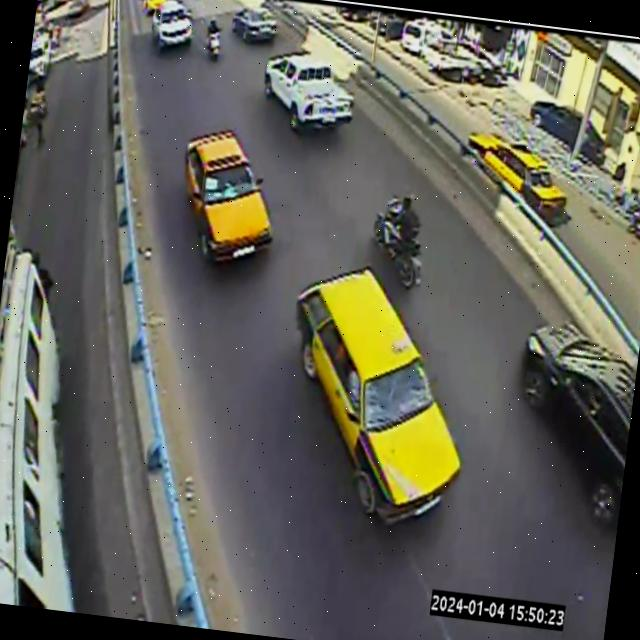car: (295, 267, 460, 522), (519, 321, 636, 529), (184, 128, 271, 260), (264, 51, 352, 129), (151, 0, 192, 49), (231, 6, 276, 41)
